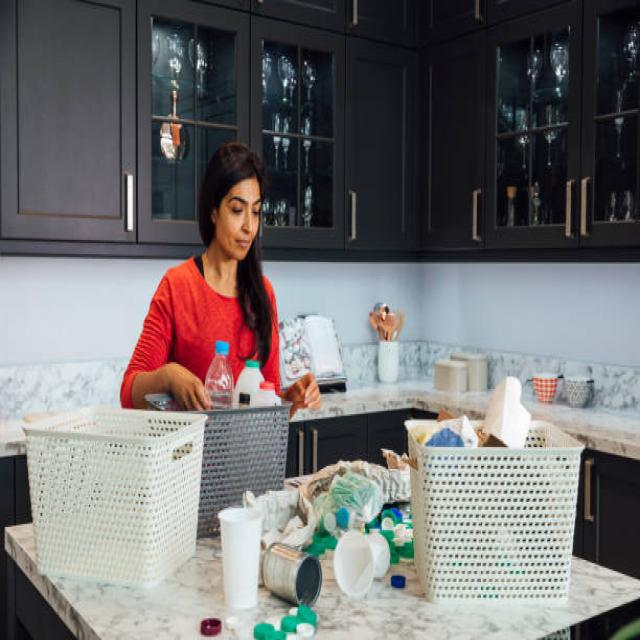metal: (268, 546, 321, 598)
plastic: (220, 513, 260, 601), (338, 536, 377, 594)
trash: (292, 481, 388, 524)
